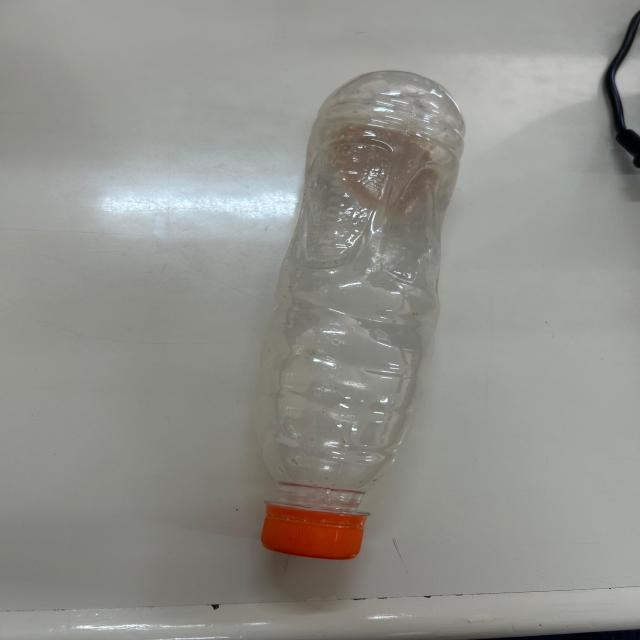inorganic: (252, 70, 471, 561)
